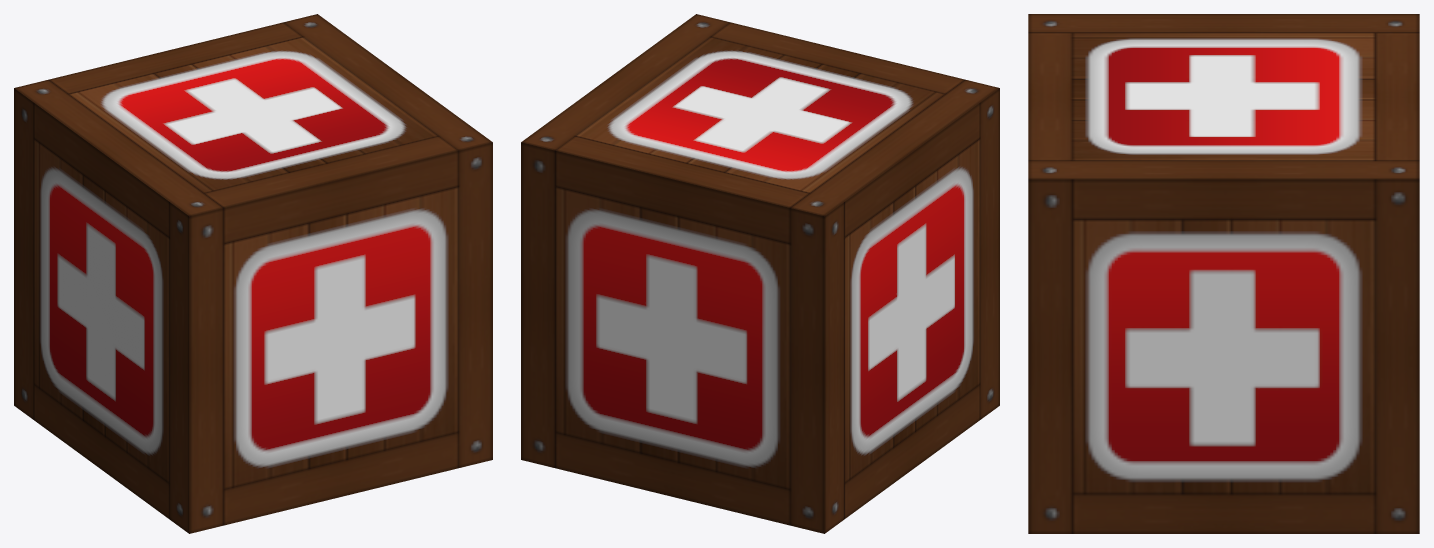
Rendered from HealthPickup.fbx.
The picture shows the model from 3 angles, left to right: view 1: azimuth 30°, elevation 25°; view 2: azimuth 150°, elevation 25°; view 3: azimuth 270°, elevation 25°; orthographic projection. The views are drawn at different scales.
Visible parts, largest first — view 1: Box; view 2: Box; view 3: Box.
Boxes of the visible parts, x1,y1,x2,y2 form: Box: [14, 14, 492, 533]; Box: [521, 14, 999, 533]; Box: [1028, 14, 1419, 533].
Bounding box in the file's own units: 1 × 1 × 1.
Materials: 1 (1 with a texture image).
